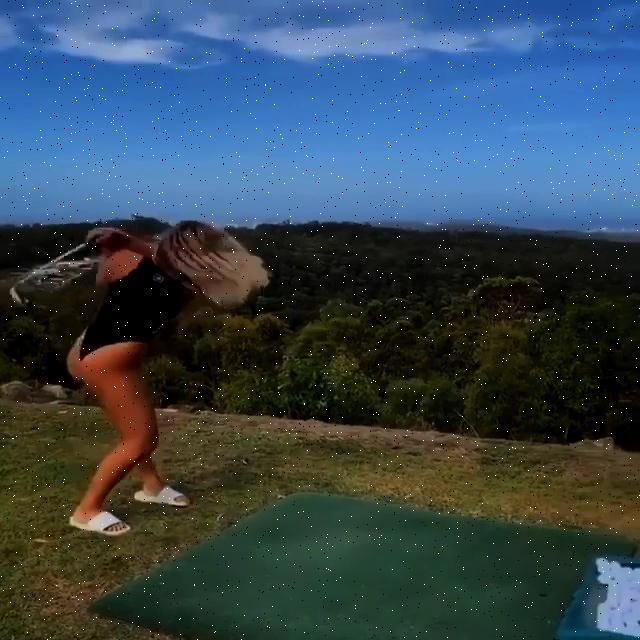ClubHandle: (8, 239, 94, 307)
ClubHead: (9, 290, 26, 308)
